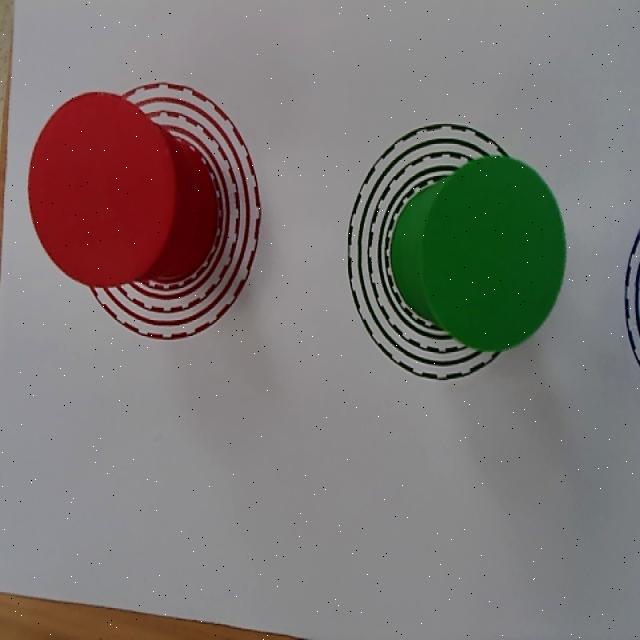g: (422, 154, 566, 350)
r: (29, 92, 174, 286)
